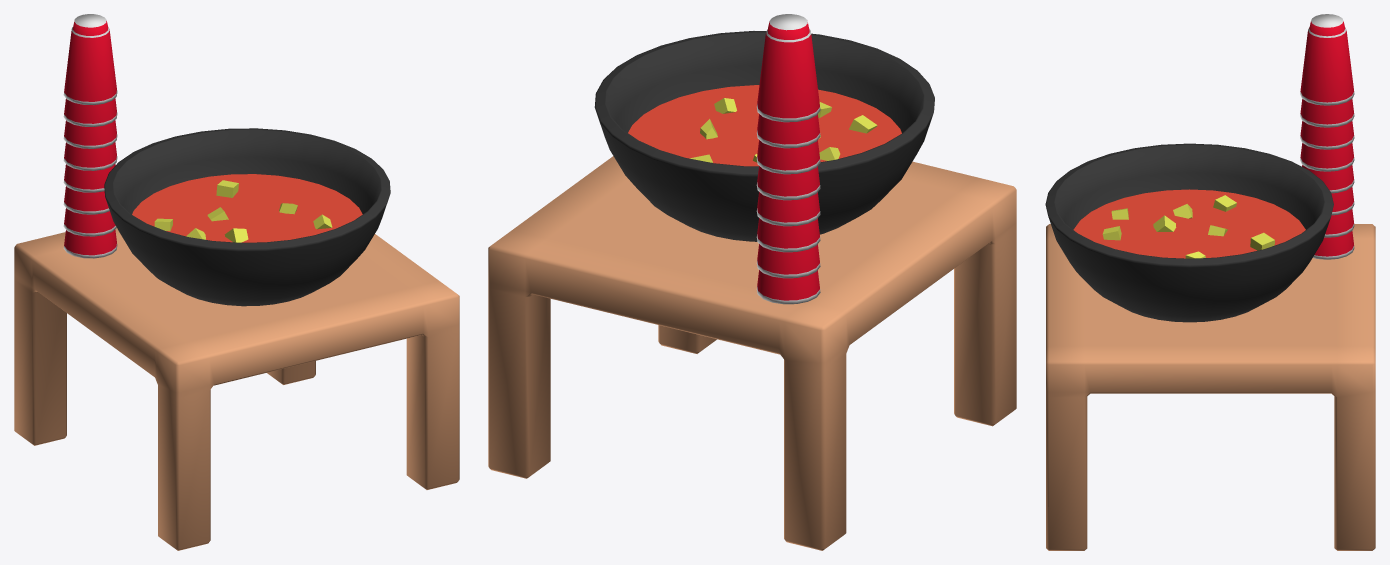
File: Punch_01.fbx
3 renders of one model, left to right at view 1: azimuth 30°, elevation 25°; view 2: azimuth 150°, elevation 25°; view 3: azimuth 270°, elevation 25°, orthographic. The views are drawn at different scales.
Visible parts, largest first — view 1: Table, Bowl, Liquid, Cups.002; view 2: Table, Bowl, Cups.002, Liquid; view 3: Table, Bowl, Liquid, Cups.002.
Part boxes in pixels (x1=…): Table: x1=14, y1=228, x2=459, y2=550; Bowl: x1=104, y1=128, x2=390, y2=306; Liquid: x1=132, y1=174, x2=362, y2=242; Cups.002: x1=63, y1=14, x2=117, y2=258; Table: x1=488, y1=156, x2=1016, y2=550; Bowl: x1=594, y1=31, x2=934, y2=241; Cups.002: x1=756, y1=14, x2=820, y2=304; Liquid: x1=628, y1=85, x2=901, y2=166; Table: x1=1046, y1=224, x2=1375, y2=550; Bowl: x1=1045, y1=143, x2=1333, y2=322; Liquid: x1=1073, y1=189, x2=1305, y2=258; Cups.002: x1=1300, y1=14, x2=1354, y2=259.
Bounding box in the file's own units: 112 × 157 × 112.
